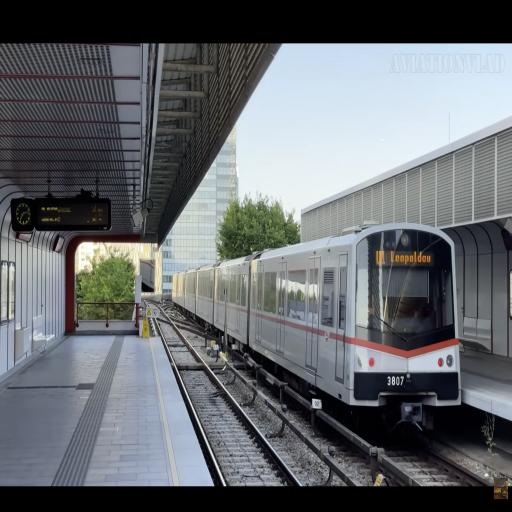V-Wagen: (172, 220, 461, 420)
